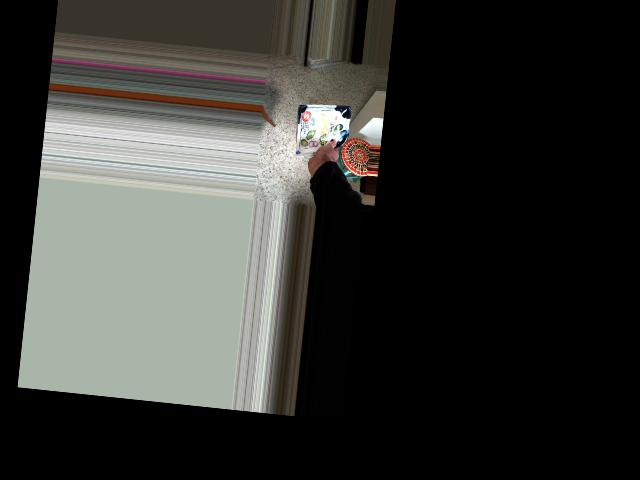cheese: (285, 102, 358, 176)
